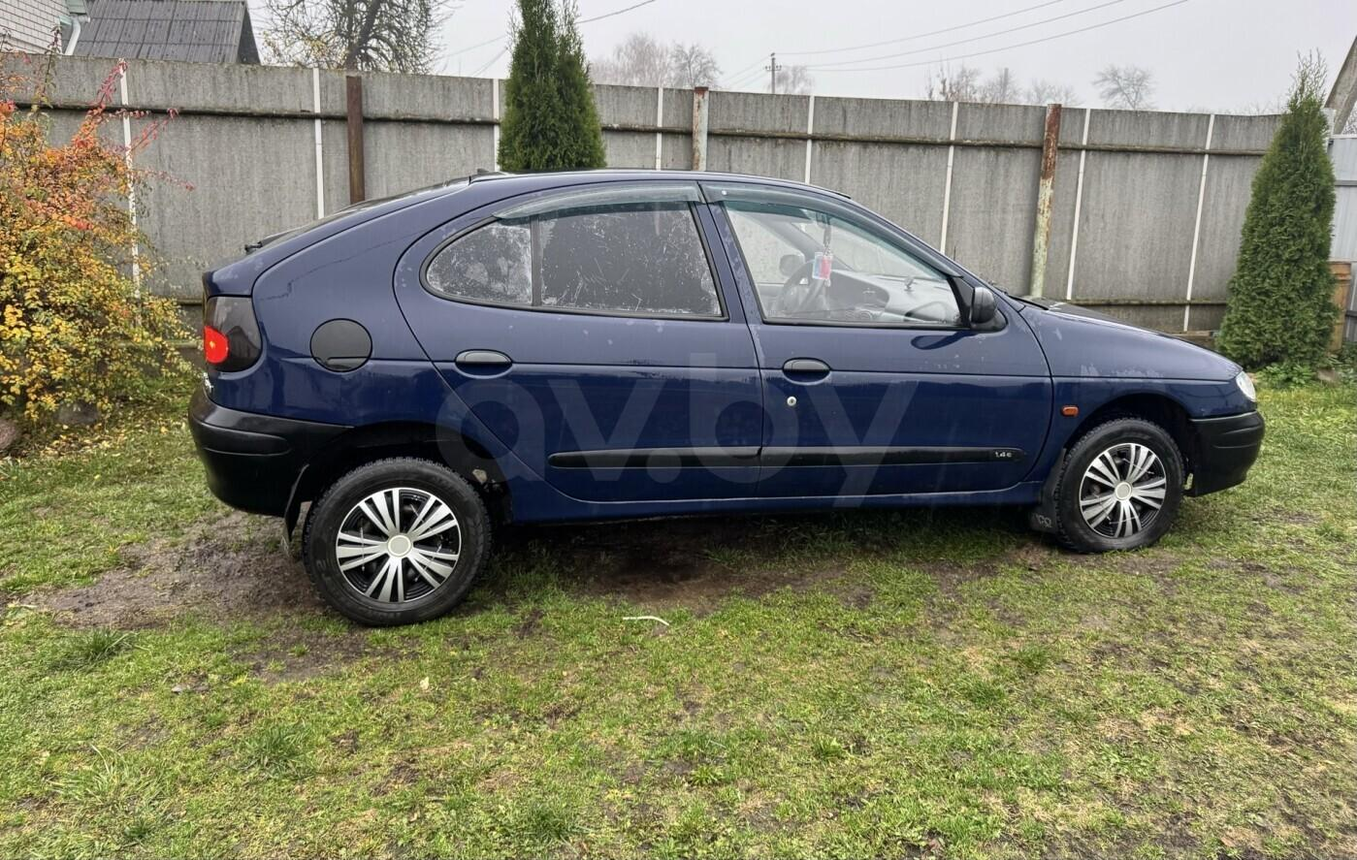Megane_1995-1999: (172, 156, 1262, 634)
